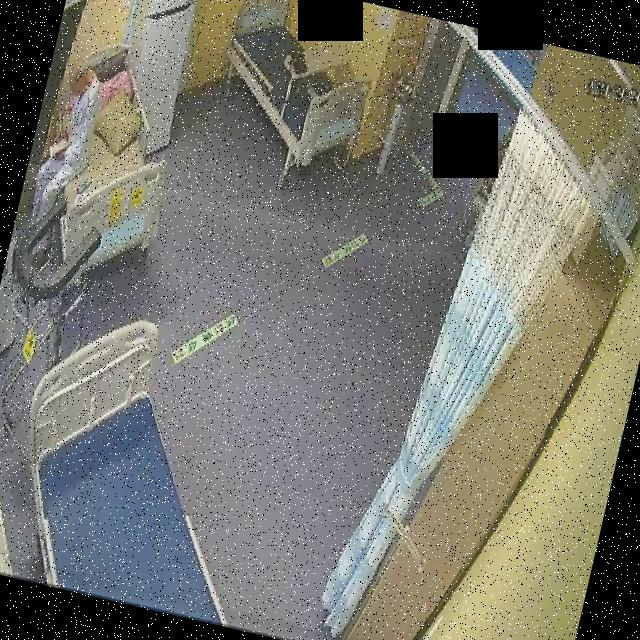bed: (0, 298, 289, 624), (21, 32, 198, 286), (203, 0, 387, 177)
patient: (27, 52, 110, 230)
sit: (26, 51, 110, 230)
